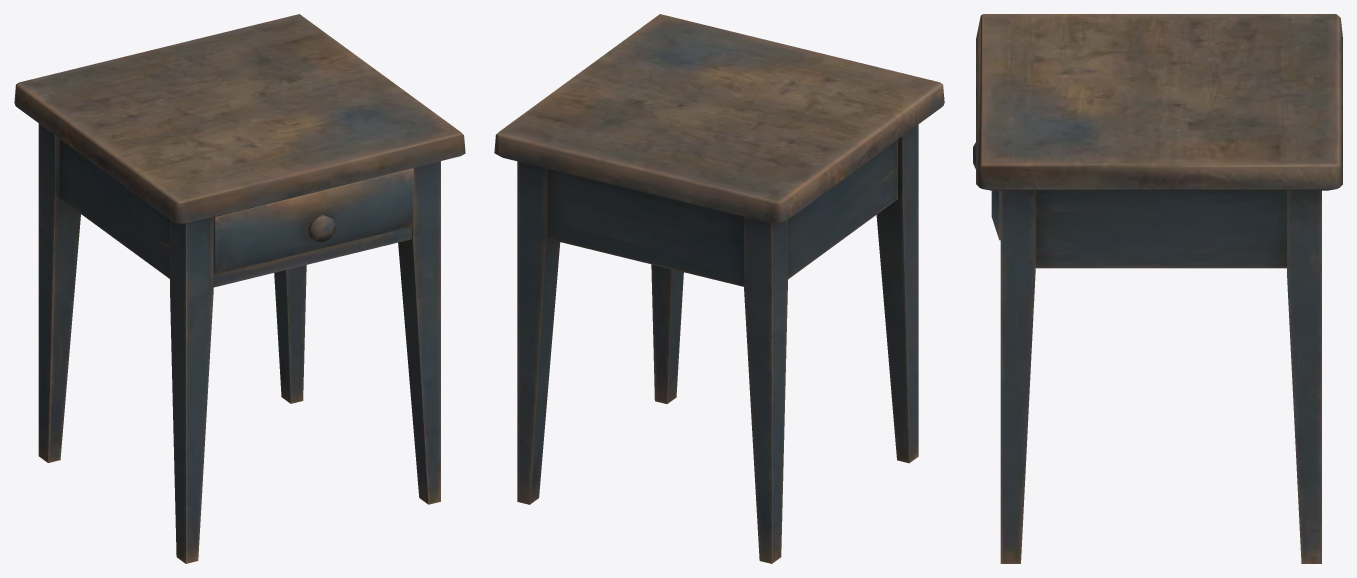
Rendered from painted_wooden_nightstand.glb.
The picture shows the model from 3 angles, left to right: view 1: azimuth 30°, elevation 25°; view 2: azimuth 150°, elevation 25°; view 3: azimuth 270°, elevation 25°; orthographic projection. The views are drawn at different scales.
Visible parts, largest first — view 1: painted_wooden_nightstand; view 2: painted_wooden_nightstand; view 3: painted_wooden_nightstand.
Boxes of the visible parts, <box> form: painted_wooden_nightstand: <box>14,14,465,563</box>; painted_wooden_nightstand: <box>494,14,944,563</box>; painted_wooden_nightstand: <box>973,14,1342,563</box>.
Size of the model in its own units: 0.5045 by 0.6155 by 0.5074.
1 material, 1 textured.
